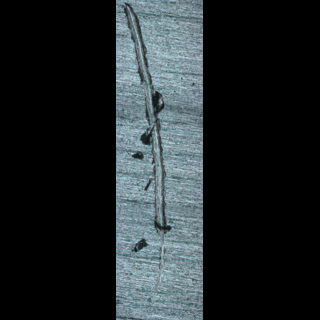d: (121, 1, 173, 311)
